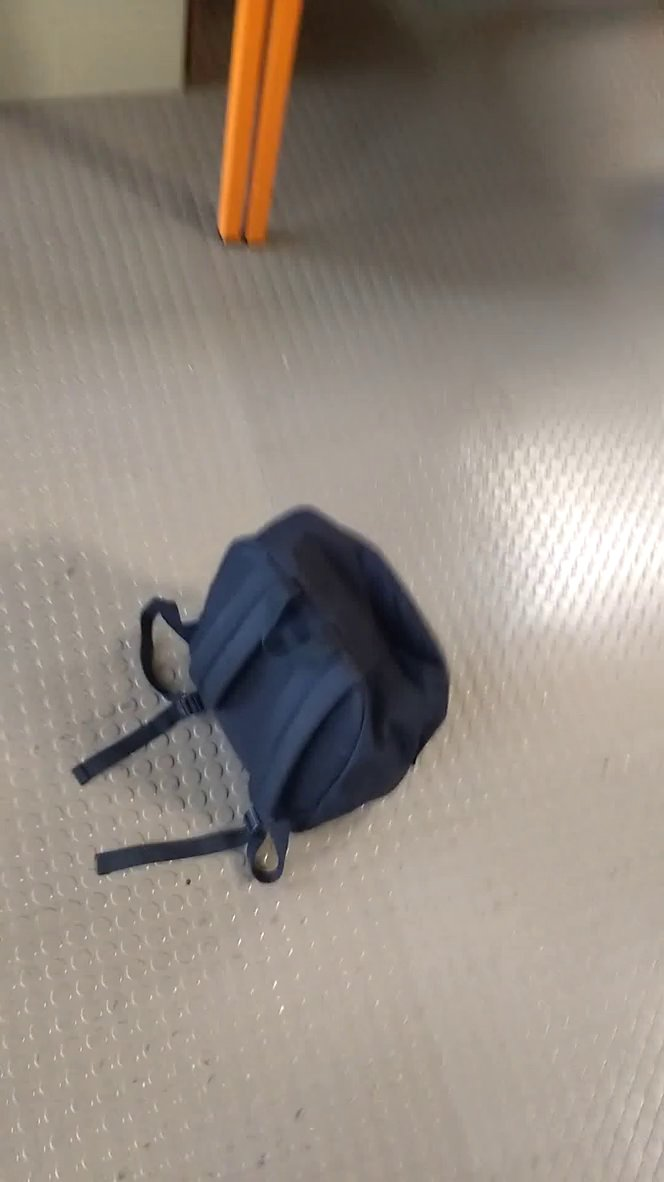bag: (71, 496, 482, 898)
